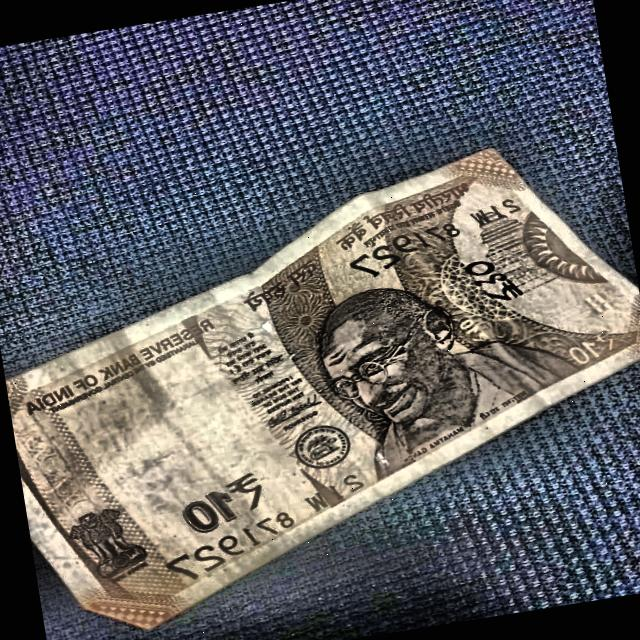-10-: (0, 108, 640, 640)
